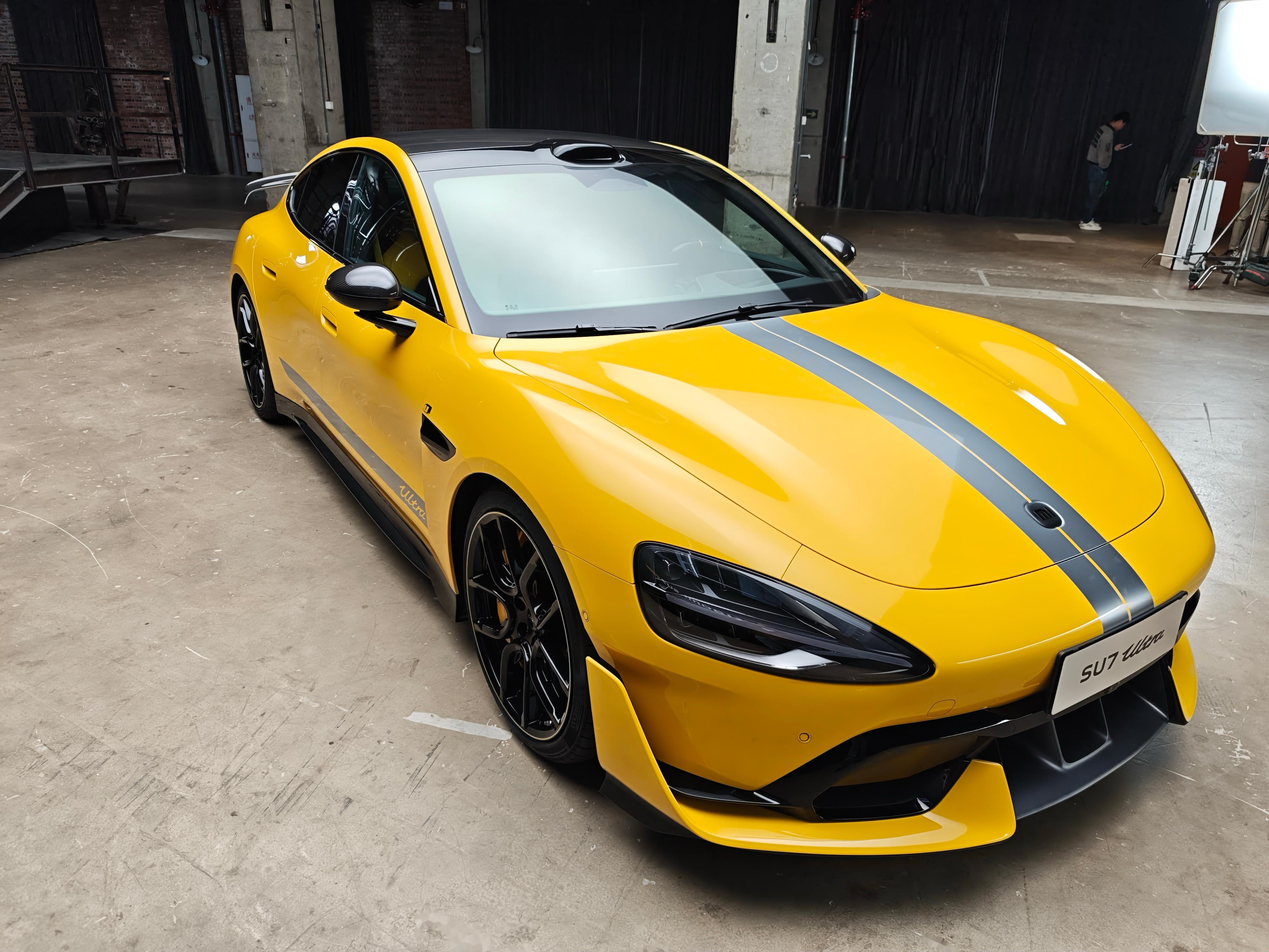su7: (216, 143, 1220, 866)
